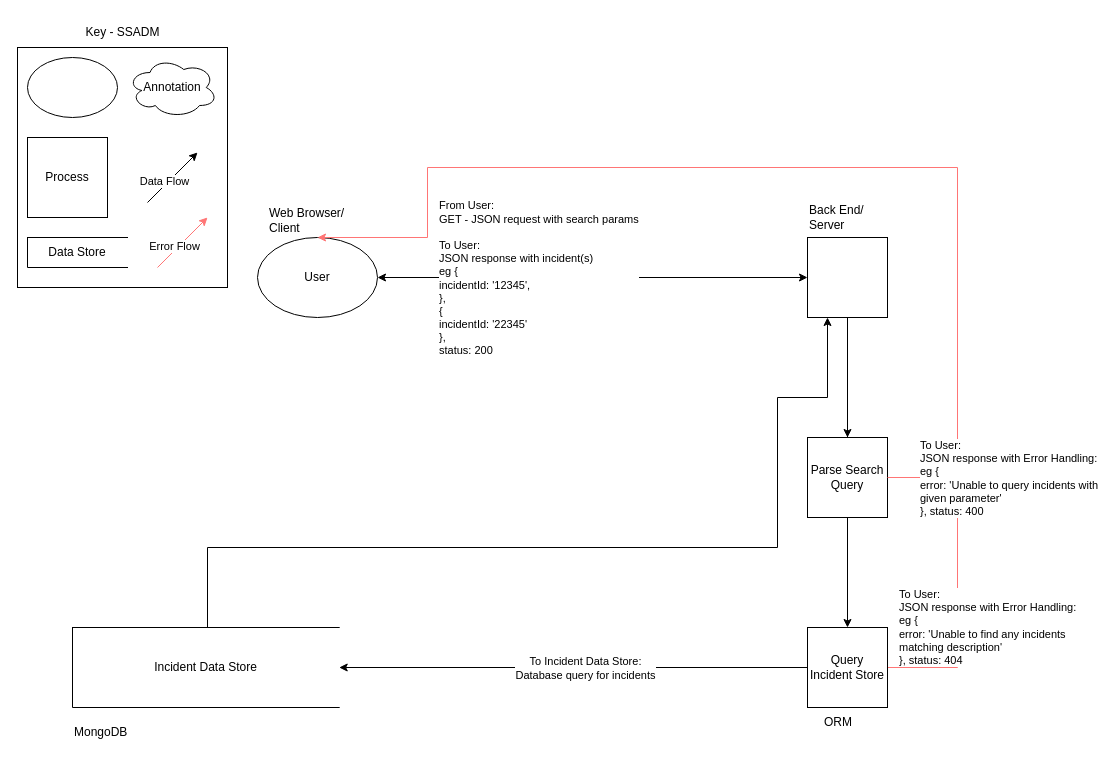
Image size: 1116x764. Some labels were removed from this diagram. Each missing label, with the centre of its shape:
"Entity" belongs at [72,87].
"Search and Filter Incidents End Point" belongs at [847,277].
